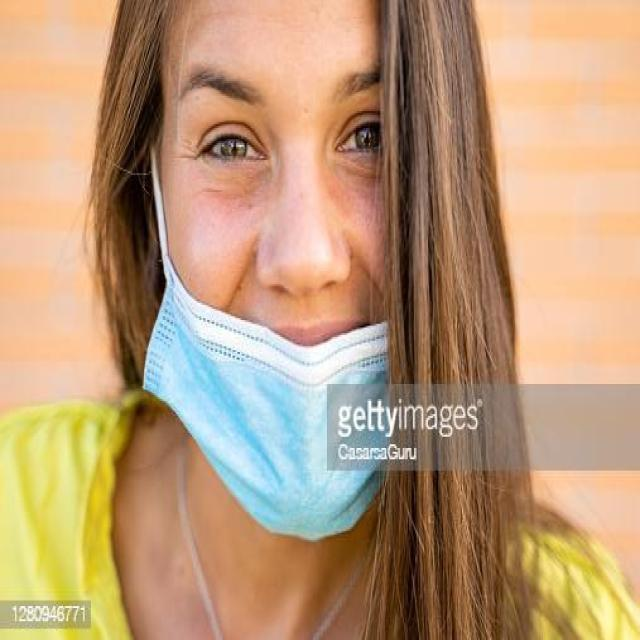hairnet: (147, 209, 455, 552)
